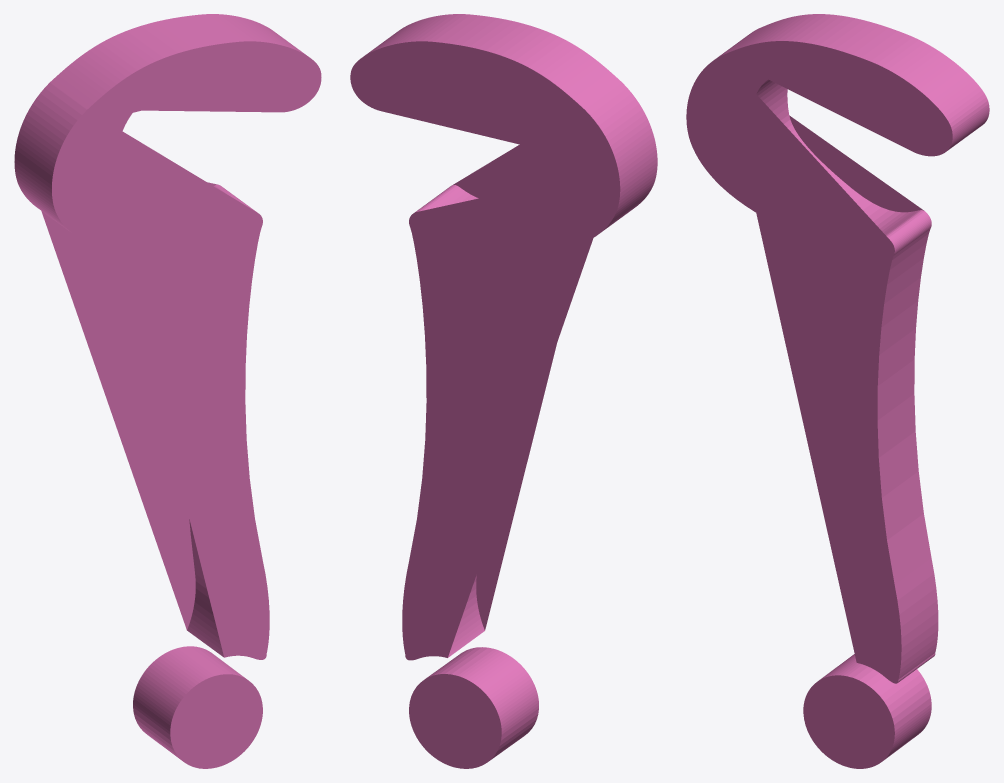
The model's file is Shadows_QuestionCane_.fbx.
3 renders of one model, left to right at view 1: azimuth 30°, elevation 25°; view 2: azimuth 150°, elevation 25°; view 3: azimuth 330°, elevation 25°, orthographic.
Visible parts, largest first — view 1: Curve; view 2: Curve; view 3: Curve.
Boxes of the visible parts, left/top/right/bottom form: Curve: left=14, top=14, right=321, bottom=768; Curve: left=350, top=14, right=657, bottom=768; Curve: left=686, top=14, right=989, bottom=768.
Size of the model in its own units: 108 by 277 by 25.99.
